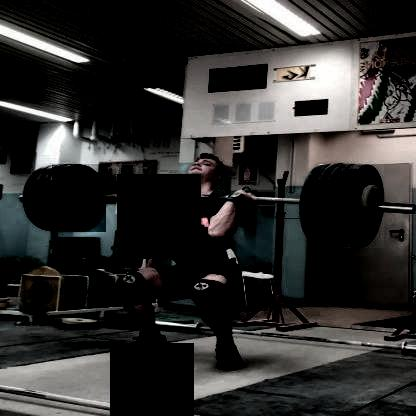barbell: (50, 164, 105, 232), (342, 164, 382, 249)
